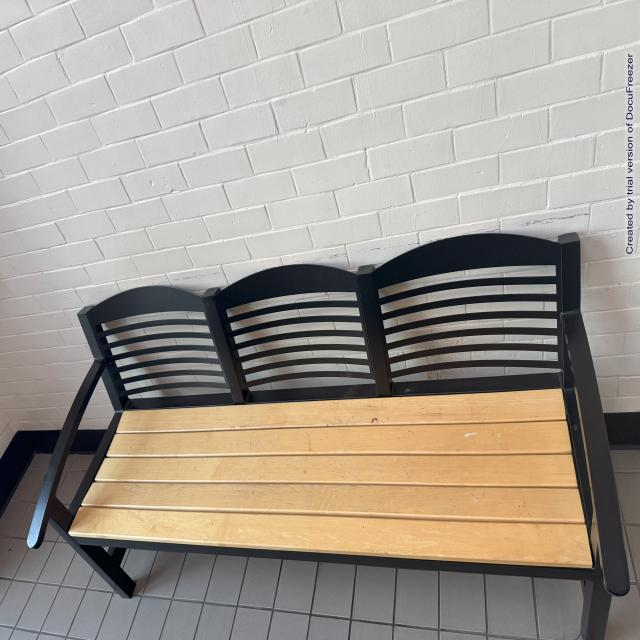chair: (15, 221, 640, 640)
